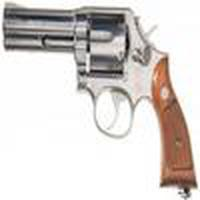gun: (4, 4, 200, 181)
